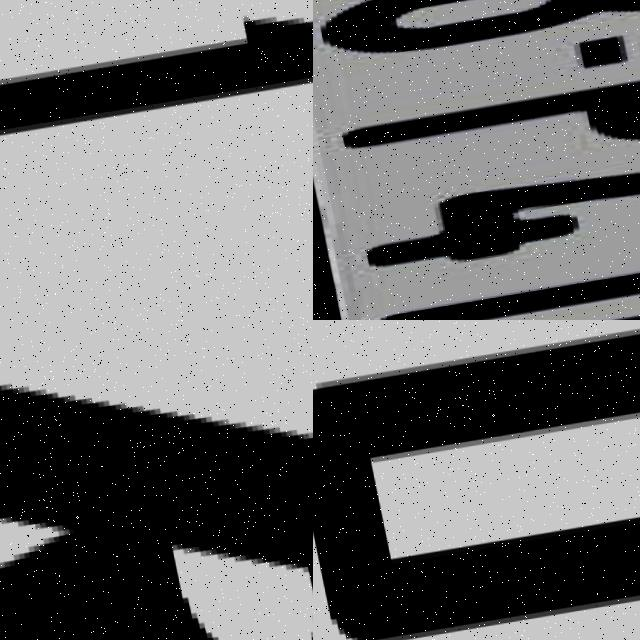0: (313, 320, 640, 640)
1: (0, 0, 313, 158), (339, 204, 640, 320)
4: (325, 123, 640, 285)
8: (313, 0, 640, 78)
P: (328, 44, 640, 200)
R: (0, 320, 313, 640)
